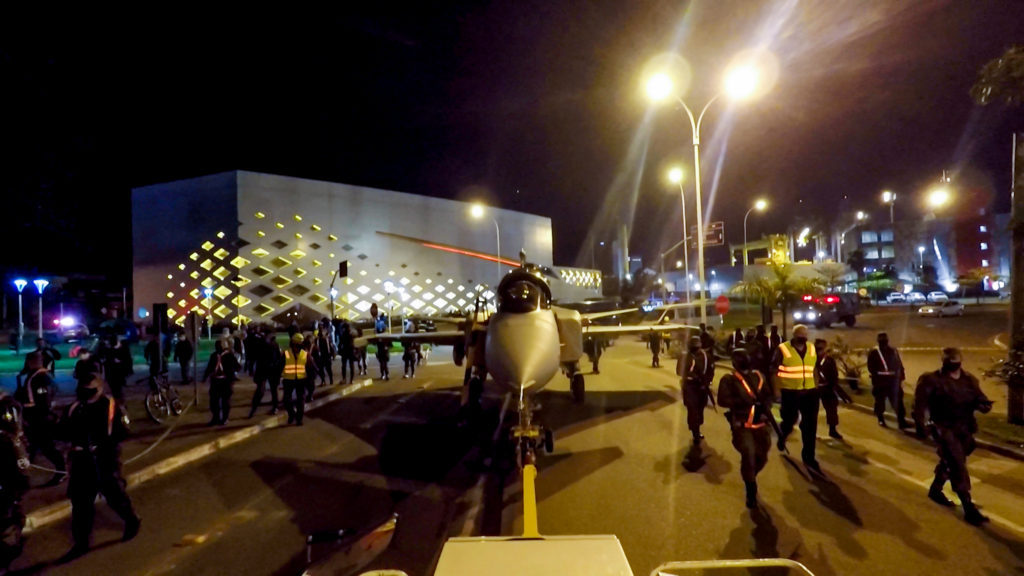JAS39: (352, 246, 700, 466)
